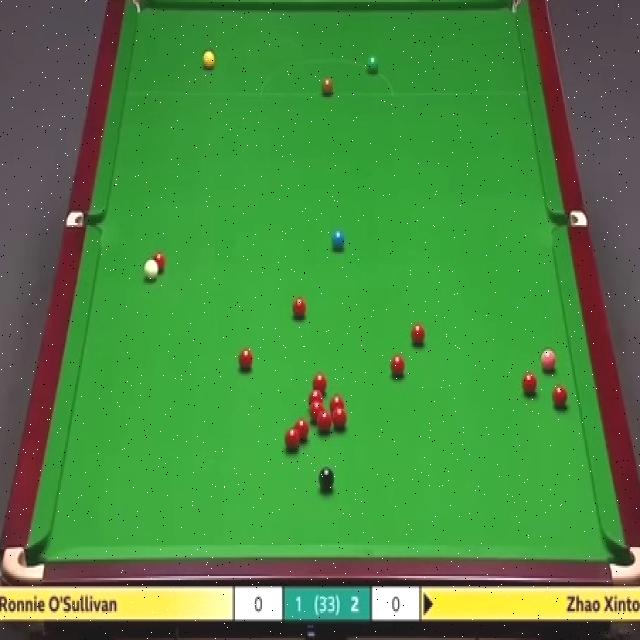black-ball: (318, 465, 335, 495)
blue-ball: (331, 228, 346, 250)
brown-ball: (320, 76, 334, 97)
green-ball: (366, 56, 379, 76)
pink-ball: (540, 347, 556, 373)
red-ball: (237, 346, 255, 374), (294, 420, 312, 446), (523, 372, 540, 397), (389, 354, 405, 380), (284, 428, 300, 453), (332, 407, 348, 432), (552, 386, 569, 408), (292, 298, 308, 320), (412, 322, 426, 347), (154, 250, 168, 274), (318, 410, 331, 433), (311, 373, 328, 390), (310, 402, 324, 422), (308, 388, 323, 405), (330, 397, 344, 411)
white-ball: (144, 259, 158, 283)
yellow-ball: (203, 51, 216, 72)
